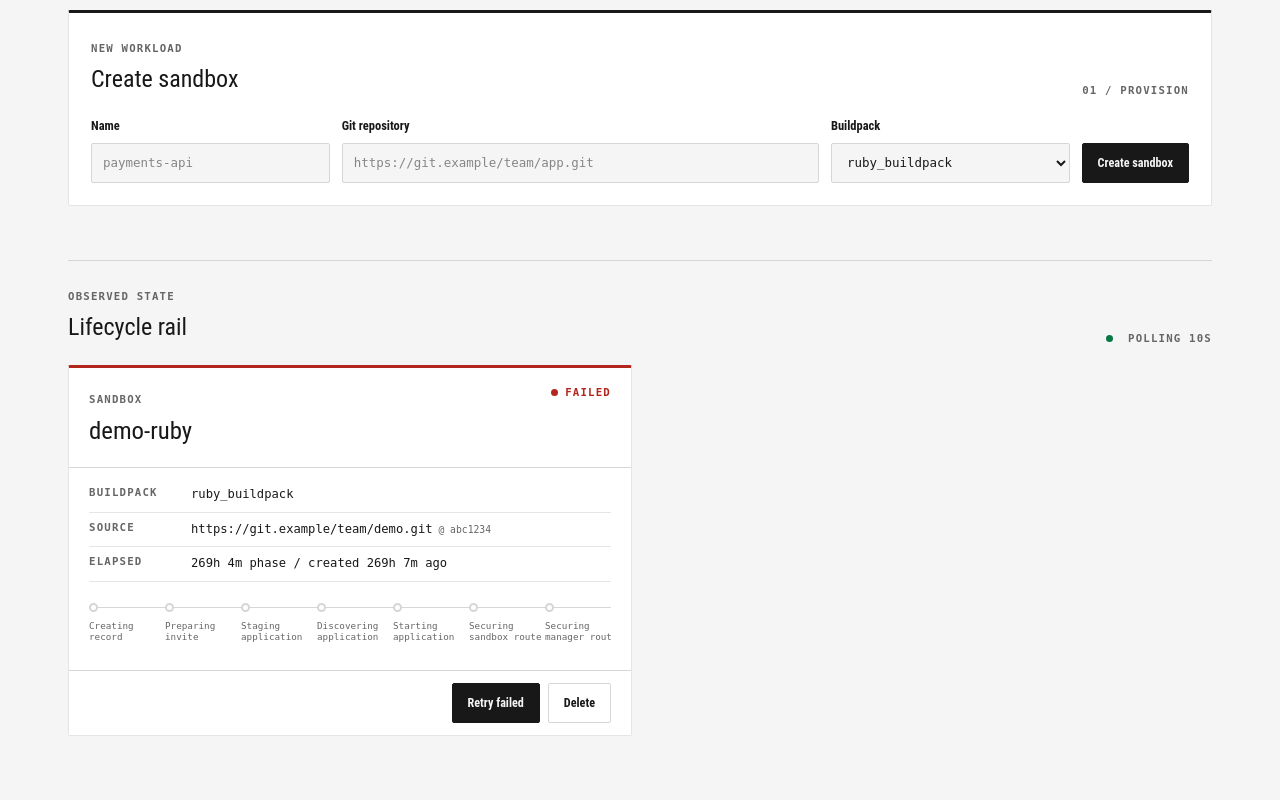
Test: clears route-owned busy state when mutation fails
This screenshot has width=1280, height=800.
(page scrolled)
Click the button with aria-label "Retry demo-ruby" at (496, 703), box [452,683,540,723]
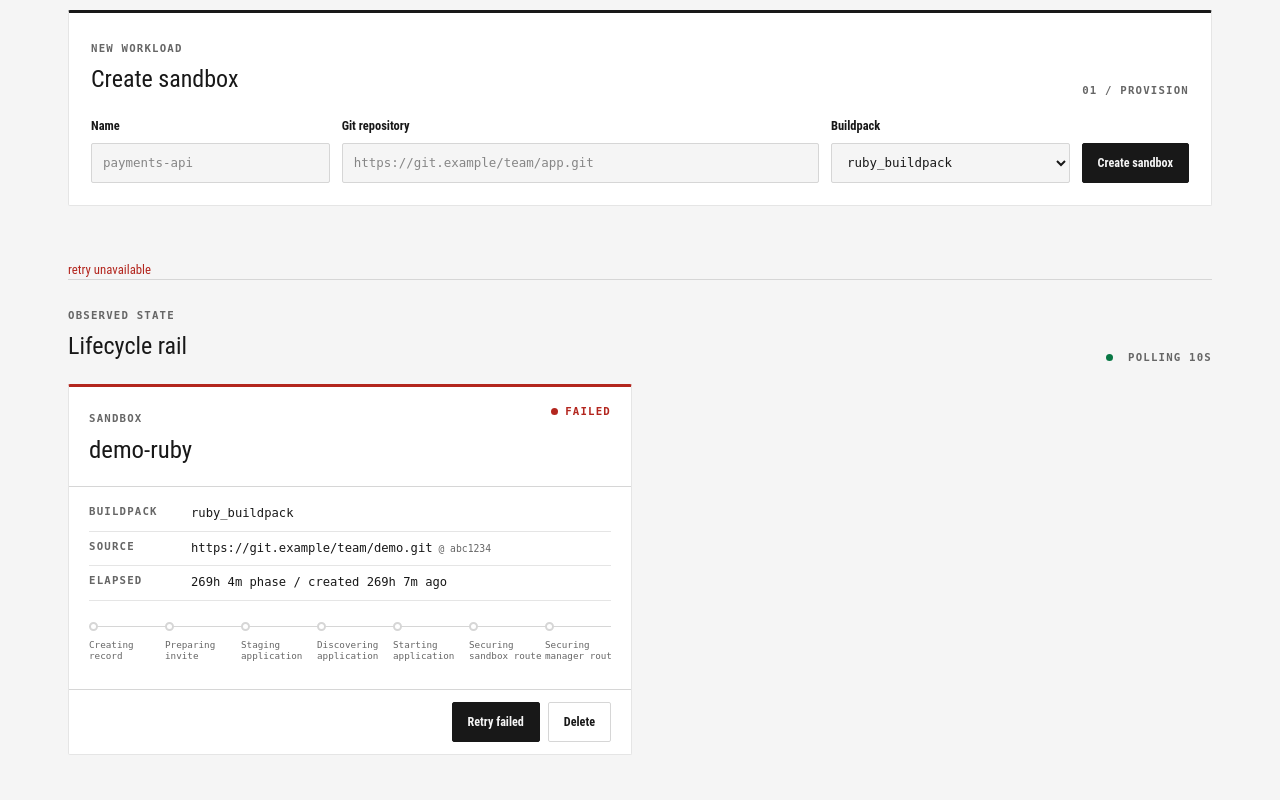
Expected: the button with aria-label "Retry demo-ruby" is enabled, [452,702,540,742]
Expected: the message reads "retry unavailable", [68,262,151,277]
